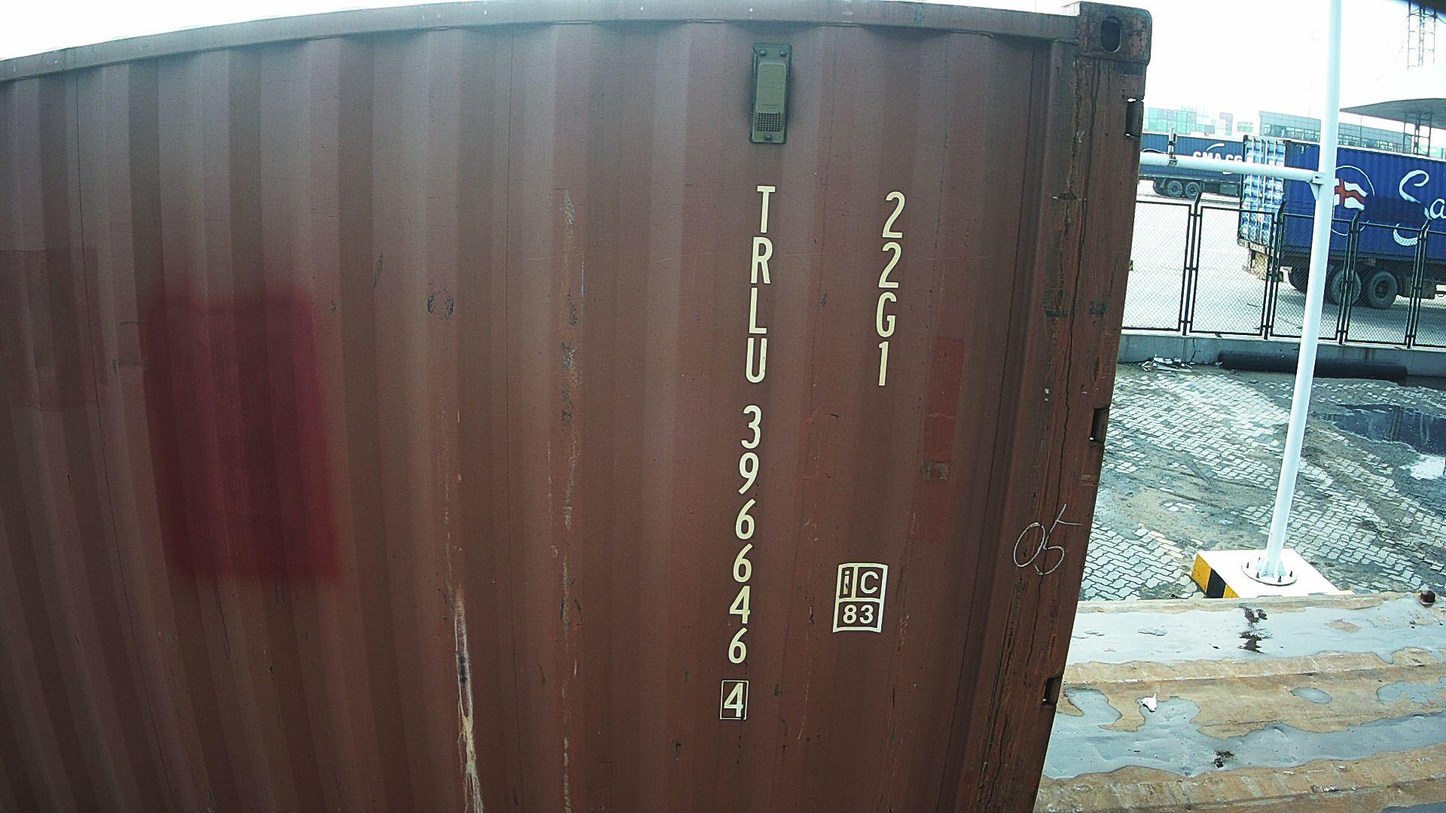container-numbers: (716, 175, 780, 727), (865, 186, 911, 393)
